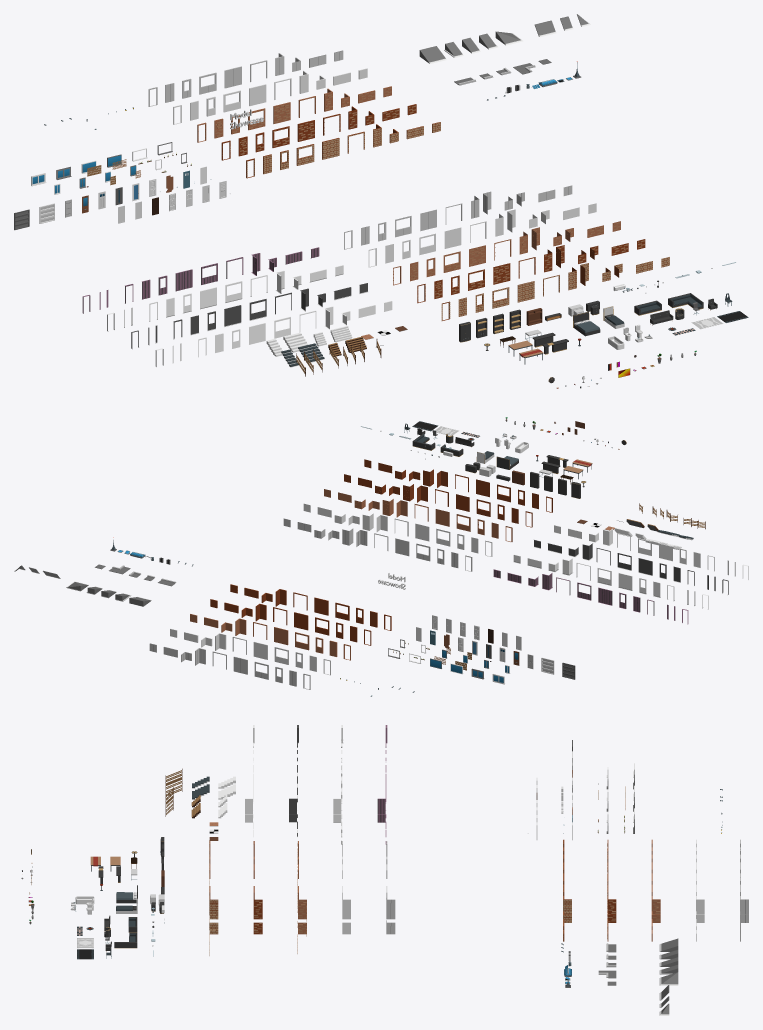
3 views of the same model, one above another, from view 1: azimuth 30°, elevation 25°; view 2: azimuth 150°, elevation 25°; view 3: azimuth 270°, elevation 25° (orthographic). The views are drawn at different scales.
Bounding box in the file's own units: 7800 × 777 × 8312.
